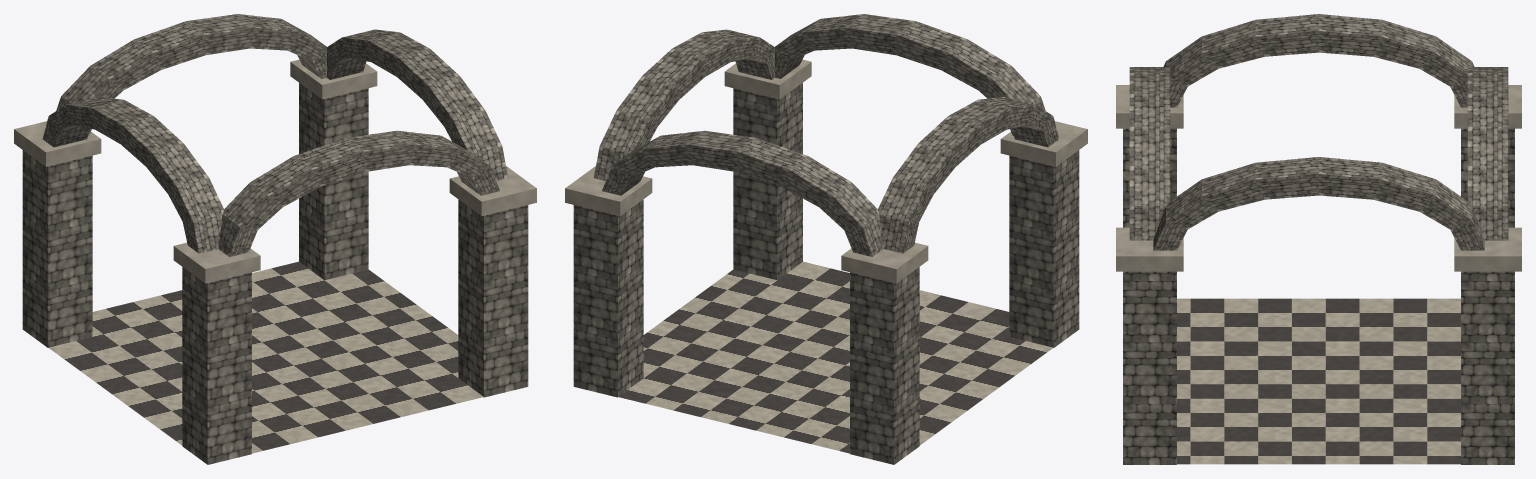
File: Vault_Dwarf_1_LOD1.gltf
The picture shows the model from 3 angles, left to right: view 1: azimuth 30°, elevation 25°; view 2: azimuth 150°, elevation 25°; view 3: azimuth 270°, elevation 25°; orthographic projection. The views are drawn at different scales.
Parts seen in each view (by area): view 1: Vault_Dwarf_1_LOD1; view 2: Vault_Dwarf_1_LOD1; view 3: Vault_Dwarf_1_LOD1.
Boxes of the visible parts, bbox=[...] form: Vault_Dwarf_1_LOD1: bbox=[14, 14, 536, 464]; Vault_Dwarf_1_LOD1: bbox=[565, 14, 1087, 464]; Vault_Dwarf_1_LOD1: bbox=[1116, 14, 1521, 464].
Size of the model in its own units: 6 by 4.7 by 6.
3 materials, 3 textured.
